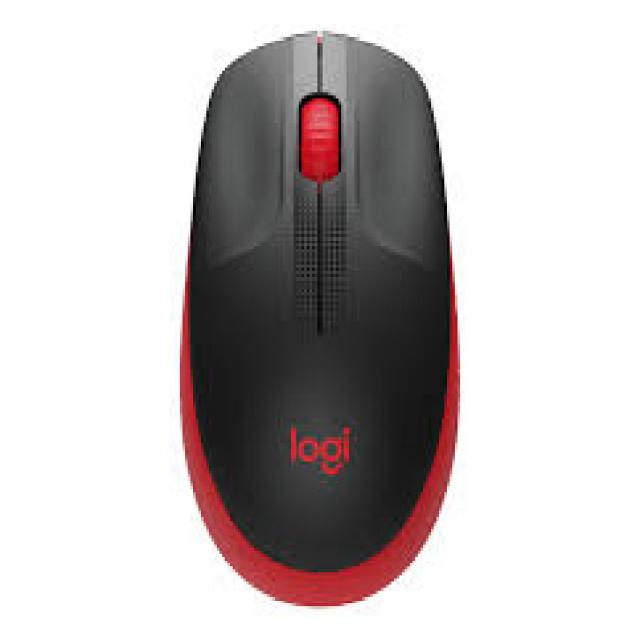others: (151, 9, 489, 616)
